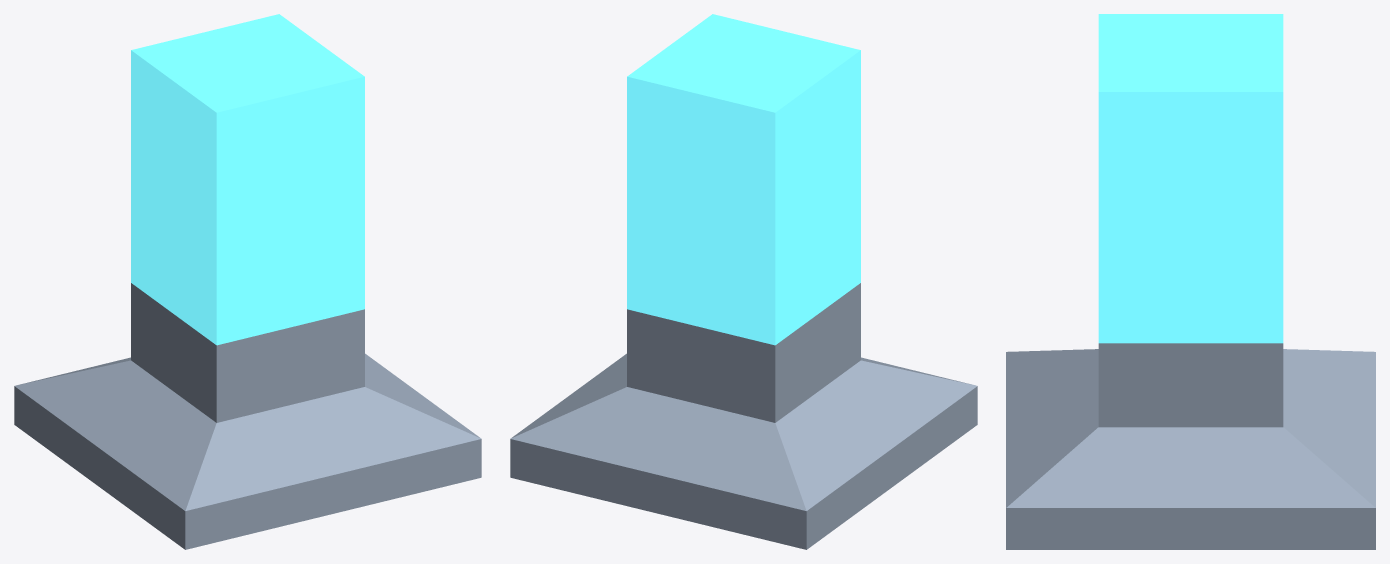
File: pipe_supportLow.glb
3 renders of one model, left to right at view 1: azimuth 30°, elevation 25°; view 2: azimuth 150°, elevation 25°; view 3: azimuth 270°, elevation 25°, orthographic. The views are drawn at different scales.
Visible parts, largest first — view 1: pipe_supportLow; view 2: pipe_supportLow; view 3: pipe_supportLow.
Part boxes in pixels (x1,y1,x2,y2): pipe_supportLow: [14, 14, 481, 549]; pipe_supportLow: [510, 14, 977, 549]; pipe_supportLow: [1006, 14, 1375, 549].
Size of the model in its own units: 0.4 by 0.5 by 0.4.
